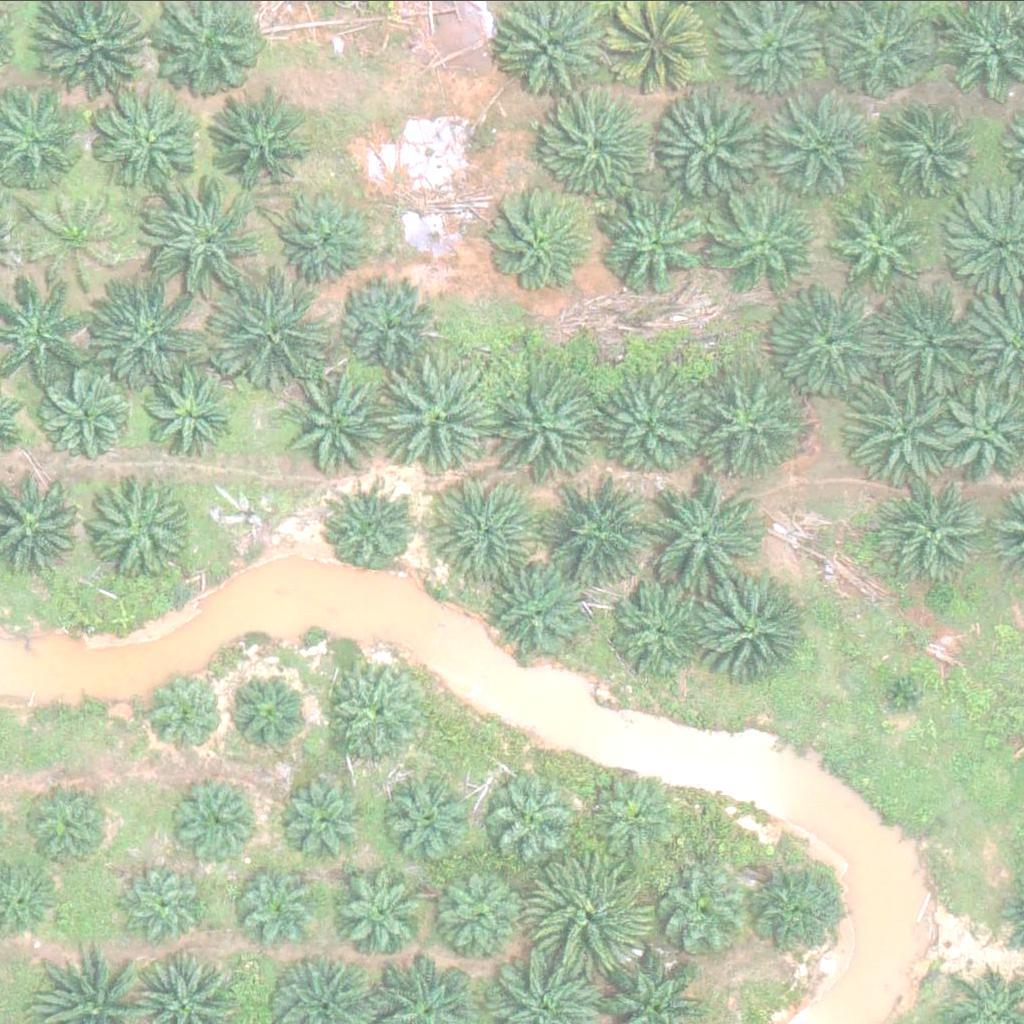Kelapa_Sawit: (588, 362, 702, 475), (216, 274, 330, 387), (493, 371, 607, 484), (429, 473, 543, 586), (661, 87, 774, 200), (603, 185, 716, 298), (700, 574, 813, 687), (90, 273, 203, 386), (530, 857, 643, 970), (708, 183, 822, 295), (91, 80, 205, 192), (480, 185, 594, 297), (537, 475, 651, 587), (783, 282, 896, 394), (691, 371, 804, 483), (839, 371, 952, 483), (648, 483, 761, 595), (543, 99, 656, 211), (146, 182, 259, 294), (270, 361, 383, 473), (384, 357, 497, 469), (720, 2, 821, 102), (777, 94, 878, 194), (832, 193, 933, 293), (610, 580, 711, 680), (19, 184, 120, 284), (337, 277, 438, 377), (37, 367, 138, 467), (133, 363, 234, 463), (89, 474, 190, 574), (322, 661, 423, 761), (383, 769, 484, 869), (490, 561, 591, 661), (891, 102, 991, 202), (880, 291, 980, 391), (888, 480, 988, 580), (745, 859, 845, 959), (210, 91, 310, 191), (283, 188, 383, 288), (429, 859, 529, 959), (333, 855, 433, 955), (652, 867, 740, 955), (26, 784, 114, 872), (587, 770, 675, 858), (236, 861, 324, 949), (323, 486, 411, 573), (122, 863, 210, 950), (179, 774, 267, 861), (225, 667, 313, 754), (495, 773, 583, 860), (274, 778, 362, 865), (152, 676, 228, 751), (875, 672, 926, 722)
